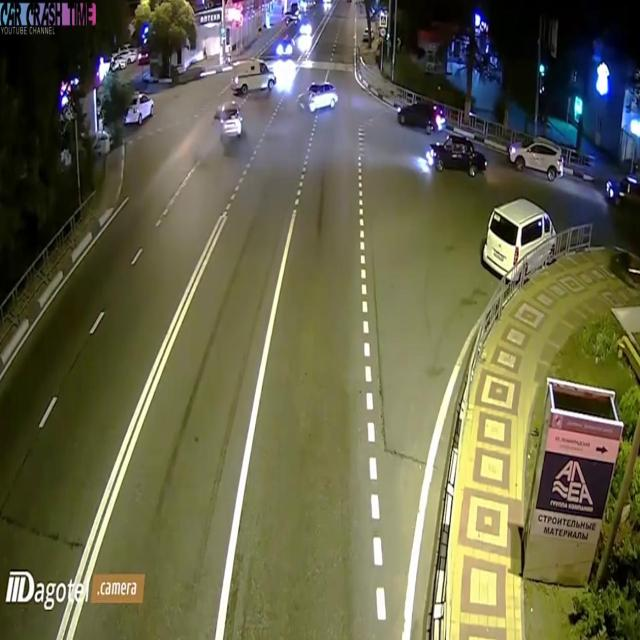accident: (208, 90, 248, 158), (293, 76, 343, 126)
non_accident: (392, 91, 490, 185)
